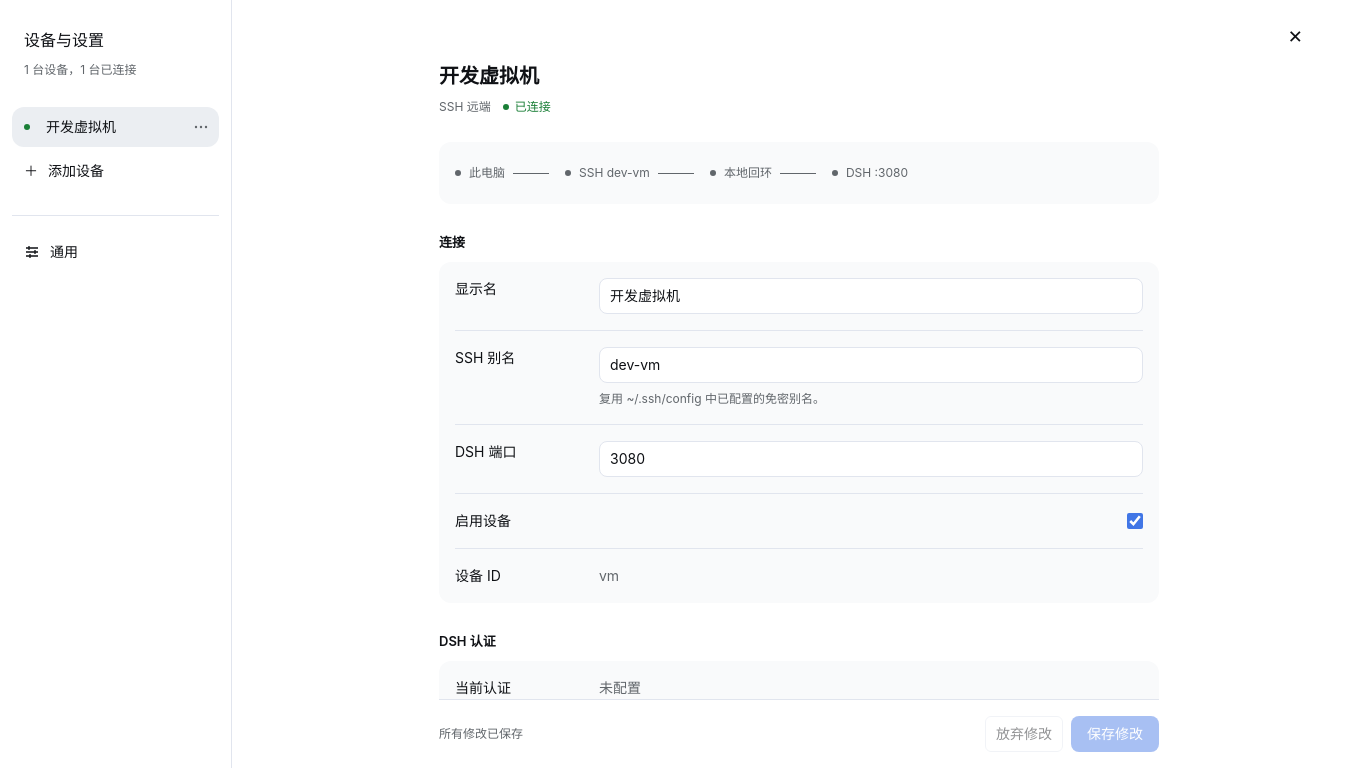
Scenario: device console › resets modifications to current values without entering add mode
Replace the text in the field labelled "显示名" with "未保存": (871, 296) [599,278,1143,314]
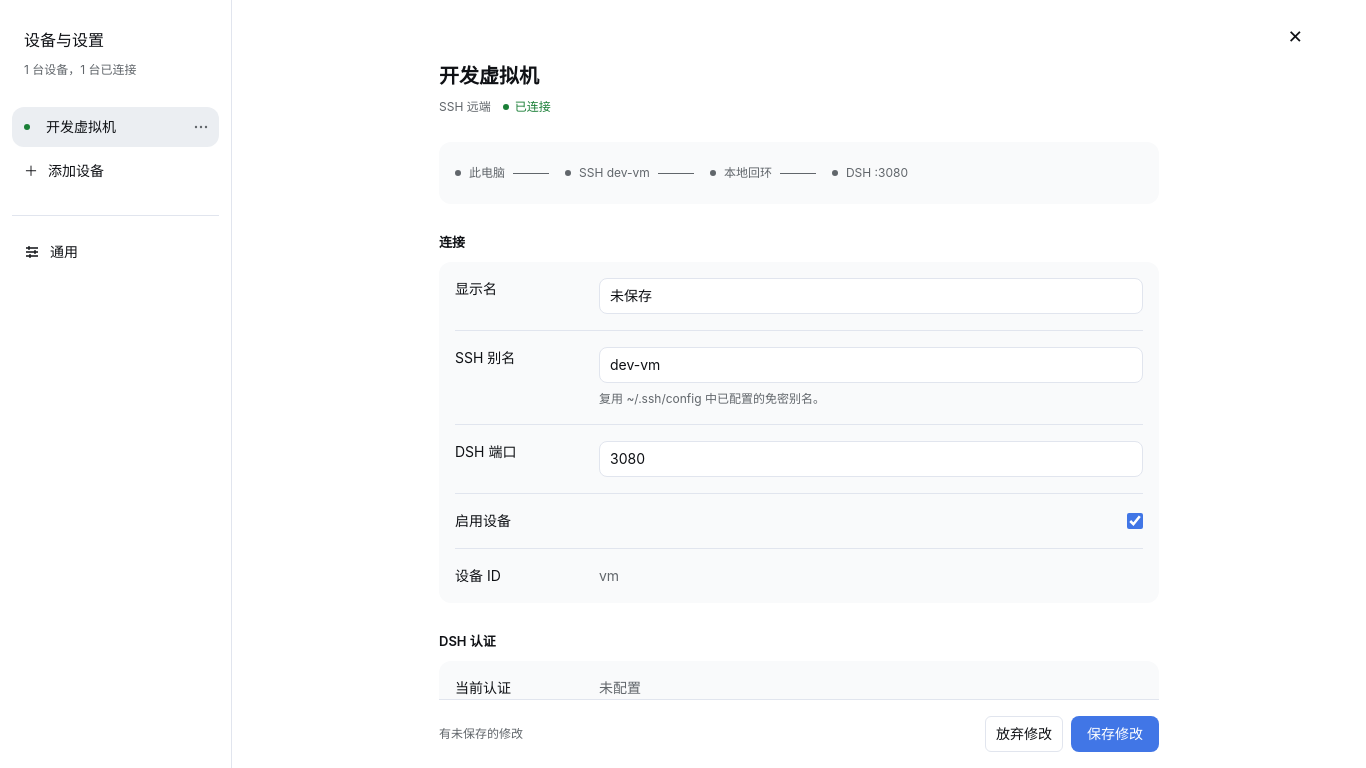
Click the button "放弃修改": (1024, 734) [985,716,1063,752]
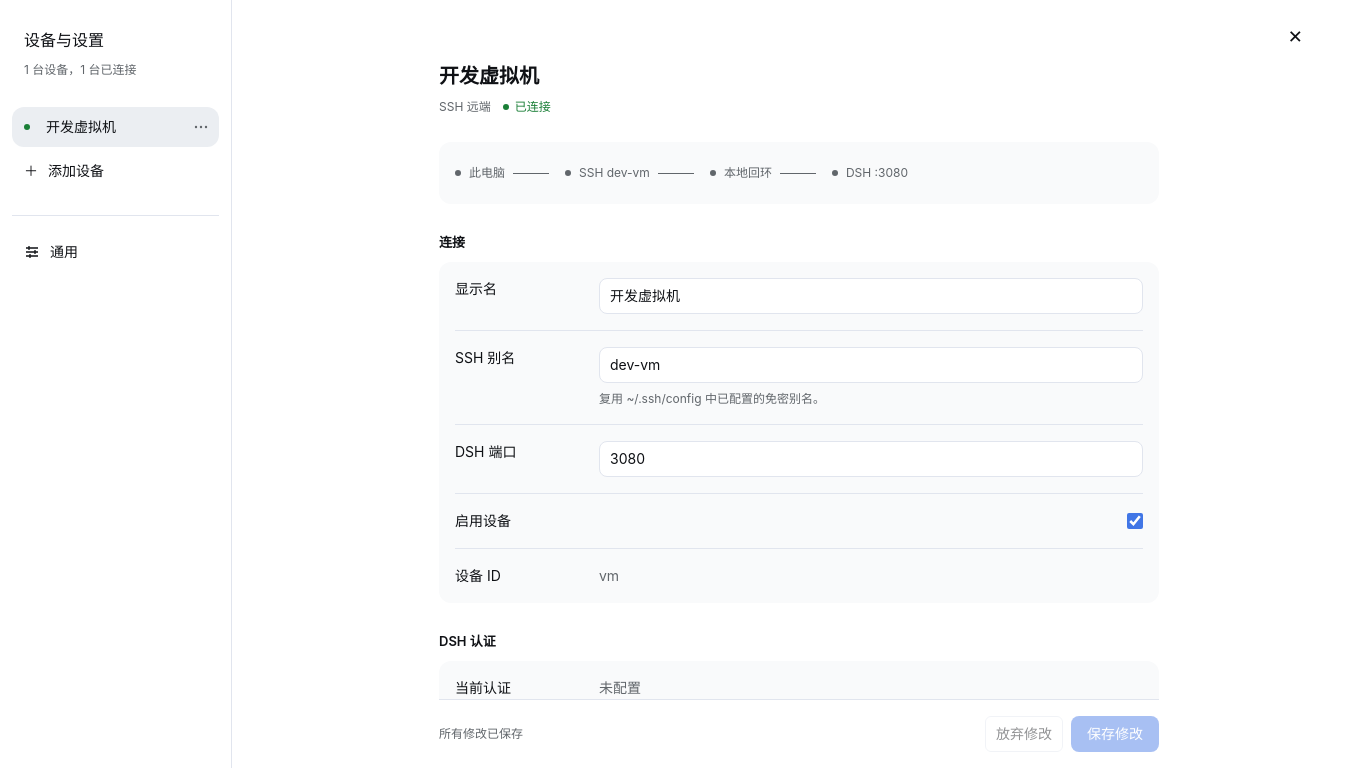
Expected: the field labelled "显示名" holds "开发虚拟机", [599,278,1143,314]
